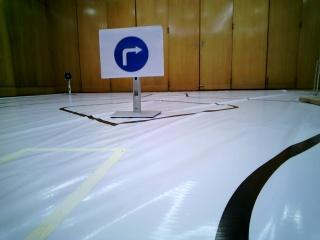right: (103, 29, 157, 74)
